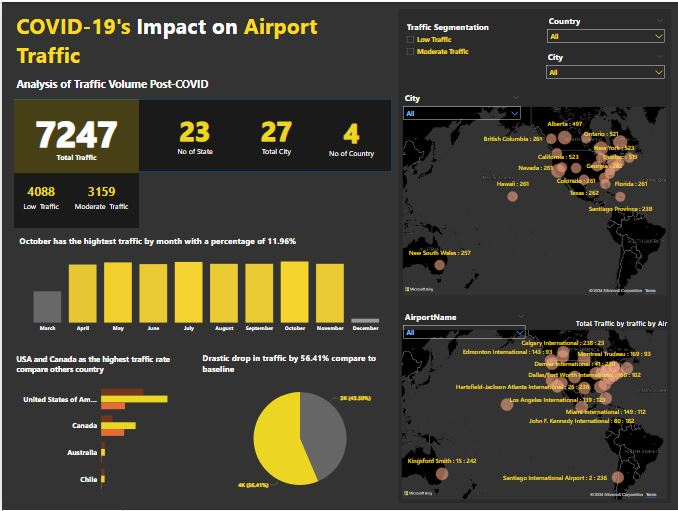

The dashboard page shown, as its layout file describes it:
{"tool":"powerbi","page":{"name":"Duplicate of 3Covid Impact","canvas":[1513,1138],"ordinal":1},"visuals":[{"type":"shape","box":[887.1,15.7,611.6,1106.6],"z":0},{"type":"shape","box":[27.8,217.7,846.8,163.5],"z":1000},{"type":"shape","box":[27.8,219.9,280,286.7],"z":2000},{"type":"card","fields":{"Values":["Count(covid_impact_on_airport_traffic.City)"]},"box":[529.6,217.7,172.5,159.1],"z":3000},{"type":"card","fields":{"Values":["Count(covid_impact_on_airport_traffic.Country)"]},"box":[693.1,219.9,181.5,163.5],"z":4000},{"type":"card","fields":{"Values":["Count(covid_impact_on_airport_traffic.State)"]},"box":[336.9,217.7,192.7,159.1],"z":5000},{"type":"clusteredBarChart","title":"USA and Canada  as the highest traffic rate compare others country","fields":{"Category":["covid_impact_on_airport_traffic.Country"],"Y":["Dax Measure.Low  Traffic","Dax Measure.Total Traffic","Dax Measure.Moderate Traffic  Traffic"]},"box":[18.8,780,409.9,342.7],"z":6000},{"type":"card","fields":{"Values":["Dax Measure.Total Traffic"]},"box":[27.8,217.7,280,165.8],"z":7000},{"type":"ribbonChart","title":"There is 3.98 per incease in traffic in October compare to the previous month","fields":{"Category":["Calenda.Date.Variation.Date Hierarchy.Month"],"Y":["Dax Measure.Total Traffic"]},"box":[22.4,517.5,855.7,230.7],"z":8000},{"type":"slicer","fields":{"Values":["covid_impact_on_airport_traffic.City"]},"box":[1209.9,105.7,284.5,78.4],"z":9000},{"type":"slicer","fields":{"Values":["covid_impact_on_airport_traffic.Country"]},"box":[1212.1,25,282.3,80.6],"z":10000},{"type":"map","fields":{"Size":["Dax Measure.Total Traffic"],"Category":["covid_impact_on_airport_traffic.traffic by state"]},"box":[887.1,215.1,611.6,448],"z":11000},{"type":"slicer","fields":{"Values":["covid_impact_on_airport_traffic.Traffic Segmentation"]},"box":[894.7,38.5,286.7,150.1],"z":12000},{"type":"card","fields":{"Values":["Dax Measure.Low  Traffic"]},"box":[18.8,354.3,138.9,165.8],"z":13000},{"type":"map","fields":{"Size":["Dax Measure.Total Traffic"],"Category":["covid_impact_on_airport_traffic.traffic by Air"]},"box":[884.9,690,616,430.1],"z":14000},{"type":"card","fields":{"Values":["Dax Measure.Moderate Traffic  Traffic"]},"box":[153.2,347.6,141.1,177],"z":15000},{"type":"pieChart","title":"Drastic drop in traffic by 56.41% compare to baseline","fields":{"Y":["Dax Measure.Moderate Traffic  Traffic","Dax Measure.Low  Traffic"]},"box":[437.7,780,454.8,342.7],"z":16000},{"type":"textbox","box":[27.8,16.1,846.8,201.6],"z":17000},{"type":"slicer","fields":{"Values":["covid_impact_on_airport_traffic.City"]},"box":[889.3,197.1,282.3,78.4],"z":18000},{"type":"slicer","fields":{"Values":["covid_impact_on_airport_traffic.AirportName"]},"box":[889.3,687.7,293.5,87.4],"z":19000}]}

Visuals, with their boxes in screenshot pixels (x1, y1, x2, y2), scaled from the page's 1513x1138 canvas onto the 678x511 screenshot:
shape: box(398, 7, 672, 504)
shape: box(12, 98, 392, 171)
shape: box(12, 99, 138, 227)
card - Count(covid_impact_on_airport_traffic.City): box(237, 98, 315, 169)
card - Count(covid_impact_on_airport_traffic.Country): box(311, 99, 392, 172)
card - Count(covid_impact_on_airport_traffic.State): box(151, 98, 237, 169)
"USA and Canada  as the highest traffic rate compare others country" clusteredBarChart: box(8, 350, 192, 504)
card - Dax Measure.Total Traffic: box(12, 98, 138, 172)
"There is 3.98 per incease in traffic in October compare to the previous month" ribbonChart: box(10, 232, 393, 336)
slicer - covid_impact_on_airport_traffic.City: box(542, 47, 670, 83)
slicer - covid_impact_on_airport_traffic.Country: box(543, 11, 670, 47)
map - Dax Measure.Total Traffic x covid_impact_on_airport_traffic.traffic by state: box(398, 97, 672, 298)
slicer - covid_impact_on_airport_traffic.Traffic Segmentation: box(401, 17, 529, 85)
card - Dax Measure.Low  Traffic: box(8, 159, 71, 234)
map - Dax Measure.Total Traffic x covid_impact_on_airport_traffic.traffic by Air: box(397, 310, 673, 503)
card - Dax Measure.Moderate Traffic  Traffic: box(69, 156, 132, 236)
"Drastic drop in traffic by 56.41% compare to baseline" pieChart: box(196, 350, 400, 504)
textbox: box(12, 7, 392, 98)
slicer - covid_impact_on_airport_traffic.City: box(399, 89, 525, 124)
slicer - covid_impact_on_airport_traffic.AirportName: box(399, 309, 530, 348)
